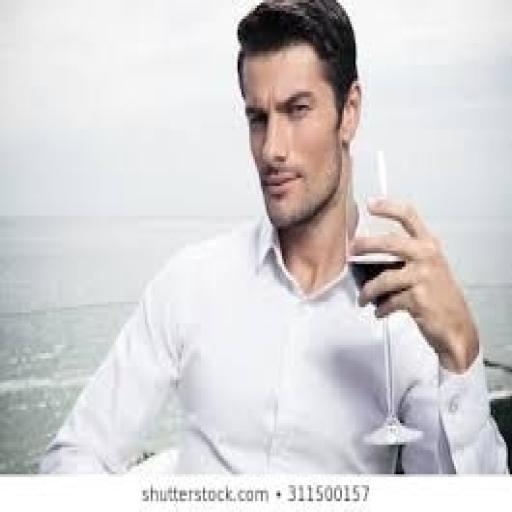drinking: (346, 148, 423, 448)
